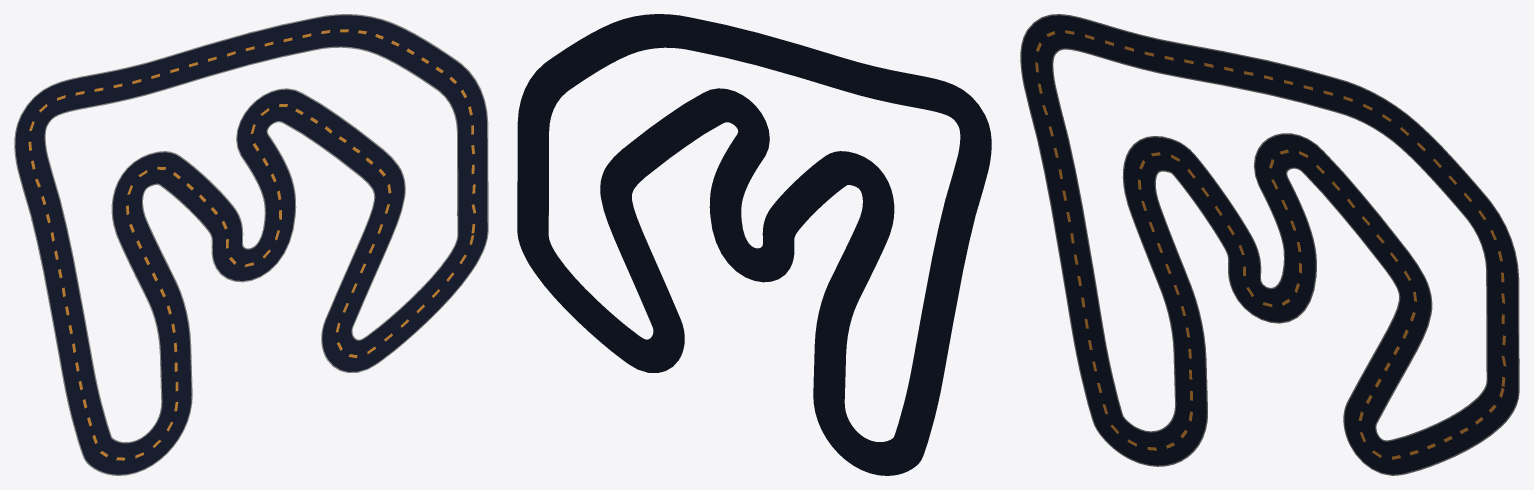
File: track.obj
3 renders of one model, left to right at view 1: azimuth 30°, elevation 25°; view 2: azimuth 150°, elevation 25°; view 3: azimuth 330°, elevation 25°, orthographic. The views are drawn at different scales.
Bounding box in the file's own units: 16.31 × 13.58 × 0.002.
